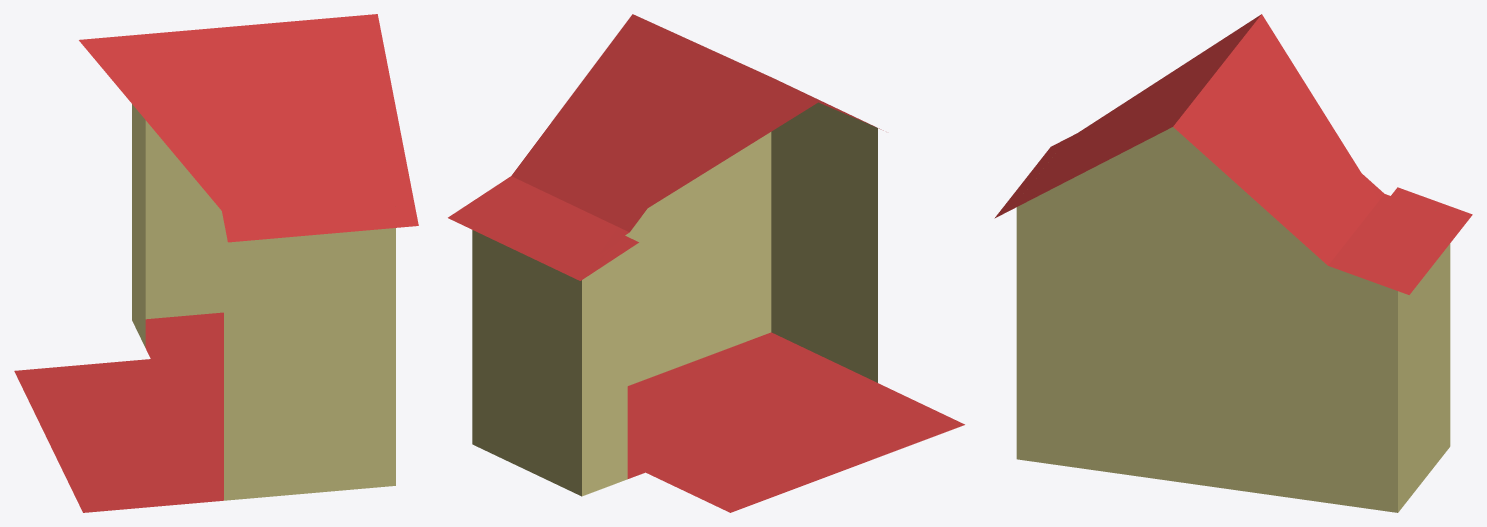
3 renders of one model, left to right at view 1: azimuth 30°, elevation 25°; view 2: azimuth 150°, elevation 25°; view 3: azimuth 270°, elevation 25°, orthographic. The views are drawn at different scales.
Bounding box in the file's own units: 12.01 × 13.42 × 11.21.
